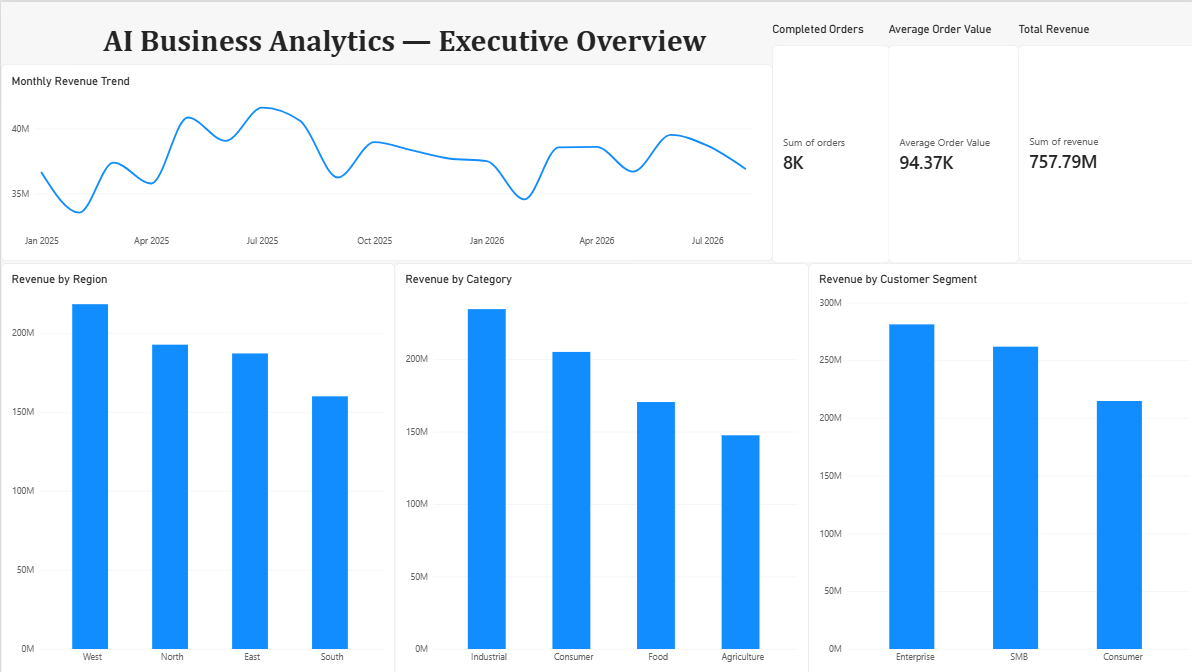

Layout of this report page (visuals, bound fields, positions):
{"tool":"powerbi","page":{"name":"Executive Overview","canvas":[1920,1080],"ordinal":0},"visuals":[{"type":"cardVisual","title":"Total Revenue","fields":{"Data":["Sum(monthly_revenue.revenue)"]},"box":[1628,32,292,382],"z":0},{"type":"lineChart","title":"Monthly Revenue Trend","fields":{"Category":["monthly_revenue.month"],"Y":["Sum(monthly_revenue.revenue)"]},"box":[0,100,1234,314],"z":1000},{"type":"clusteredColumnChart","title":"Revenue by Region","fields":{"Category":["revenue_by_region.region"],"Y":["Sum(revenue_by_region.revenue)"]},"box":[0,418,630,662],"z":2000},{"type":"clusteredColumnChart","title":"Revenue by Category","fields":{"Category":["revenue_by_category.category"],"Y":["Sum(revenue_by_category.revenue)"]},"box":[630,418,662,662],"z":3000},{"type":"cardVisual","title":"Completed Orders","fields":{"Data":["Sum(customer_segment_performance.orders)"]},"box":[1234,32,188,386],"z":4000},{"type":"cardVisual","title":"Average Order Value","fields":{"Data":["customer_segment_performance.Average Order Value"]},"box":[1420,32,208,386],"z":5000},{"type":"clusteredColumnChart","title":"Revenue by Customer Segment","fields":{"Category":["customer_segment_performance.segment"],"Y":["Sum(customer_segment_performance.revenue)"]},"box":[1292,418,628,662],"z":6000},{"type":"textbox","box":[110,32,1072,68],"z":7000}]}

Visuals, with their boxes in screenshot pixels (x1, y1, x2, y2), scaled from the page's 1920x1080 canvas onto the 1192x672 screenshot:
"Total Revenue" cardVisual: x1=1011 y1=20 x2=1191 y2=258
"Monthly Revenue Trend" lineChart: x1=0 y1=62 x2=766 y2=258
"Revenue by Region" clusteredColumnChart: x1=0 y1=260 x2=391 y2=671
"Revenue by Category" clusteredColumnChart: x1=391 y1=260 x2=802 y2=671
"Completed Orders" cardVisual: x1=766 y1=20 x2=883 y2=260
"Average Order Value" cardVisual: x1=882 y1=20 x2=1011 y2=260
"Revenue by Customer Segment" clusteredColumnChart: x1=802 y1=260 x2=1191 y2=671
textbox: x1=68 y1=20 x2=734 y2=62
